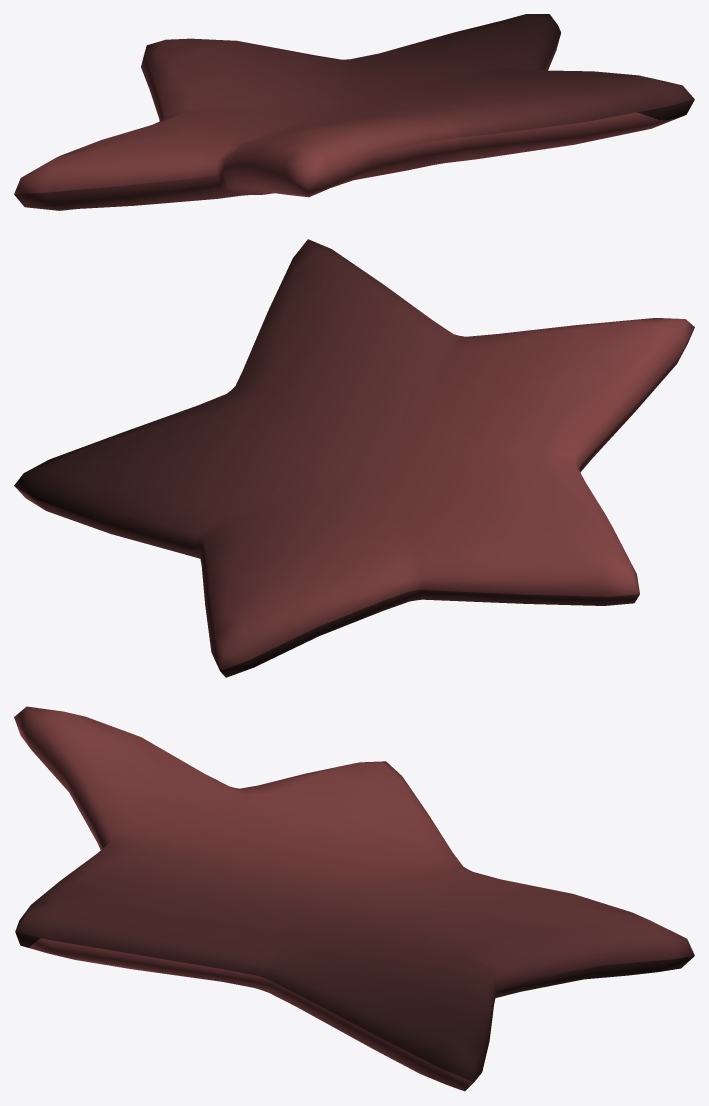
The model's file is star.glb.
3 views of the same model, one above another, from view 1: azimuth 30°, elevation 25°; view 2: azimuth 150°, elevation 25°; view 3: azimuth 270°, elevation 25° (orthographic). The views are drawn at different scales.
Visible parts, largest first — view 1: cc_star5; view 2: cc_star5; view 3: cc_star5.
Part boxes in pixels (x1=…): cc_star5: x1=14, y1=14, x2=694, y2=210; cc_star5: x1=14, y1=239, x2=694, y2=677; cc_star5: x1=14, y1=706, x2=694, y2=1091.
Size of the model in its own units: 0.0707 by 0.0204 by 0.0668.
1 material, 1 textured.
